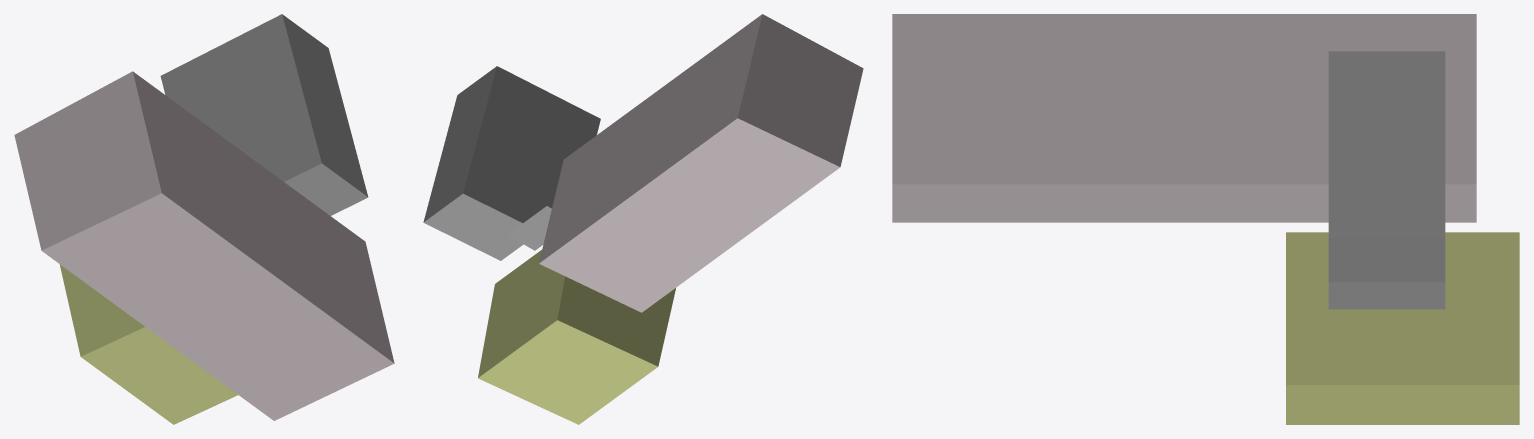
3 renders of one model, left to right at view 1: azimuth 30°, elevation 25°; view 2: azimuth 150°, elevation 25°; view 3: azimuth 270°, elevation 25°, orthographic. The views are drawn at different scales.
Visible parts, largest first — view 1: 0_2_2_0_3_3_3_1_3_3_0; view 2: 0_2_2_0_3_3_3_1_3_3_0; view 3: 0_2_2_0_3_3_3_1_3_3_0.
Part boxes in pixels (x1=…): 0_2_2_0_3_3_3_1_3_3_0: x1=14, y1=14, x2=394, y2=424; 0_2_2_0_3_3_3_1_3_3_0: x1=423, y1=14, x2=863, y2=424; 0_2_2_0_3_3_3_1_3_3_0: x1=892, y1=14, x2=1519, y2=424.
Size of the model in its own units: 10.98 by 11.47 by 16.11.
